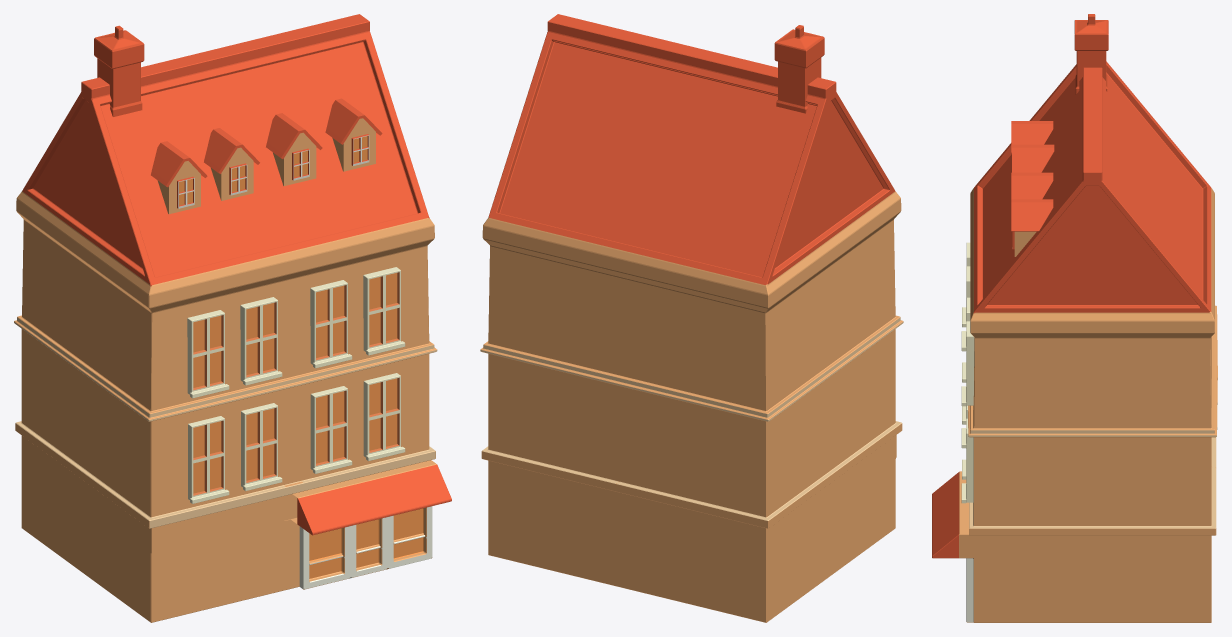
Rendered from building2_textured.fbx.
3 renders of one model, left to right at view 1: azimuth 30°, elevation 25°; view 2: azimuth 150°, elevation 25°; view 3: azimuth 270°, elevation 25°, orthographic. The views are drawn at different scales.
Visible parts, largest first — view 1: Cube.034; view 2: Cube.034; view 3: Cube.034.
Part boxes in pixels (bbox=[...]): Cube.034: bbox=[14, 14, 451, 622]; Cube.034: bbox=[480, 14, 903, 622]; Cube.034: bbox=[932, 14, 1217, 622].
Size of the model in its own units: 257 by 461 by 240.
